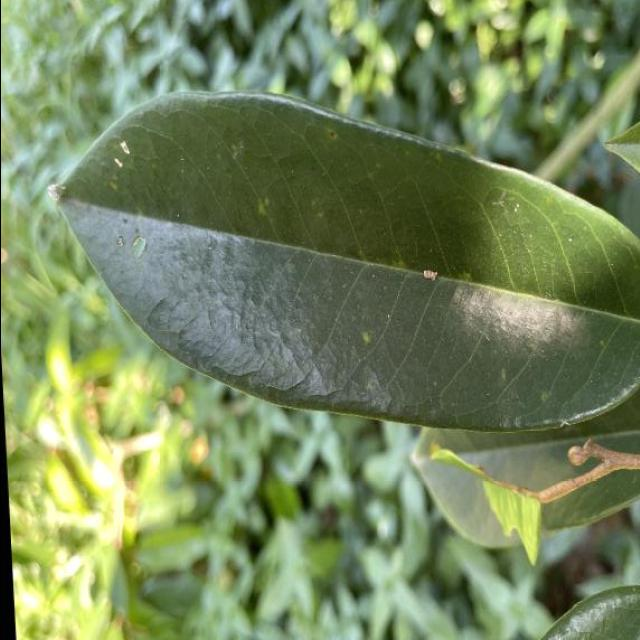No Disease: (36, 51, 640, 470)
